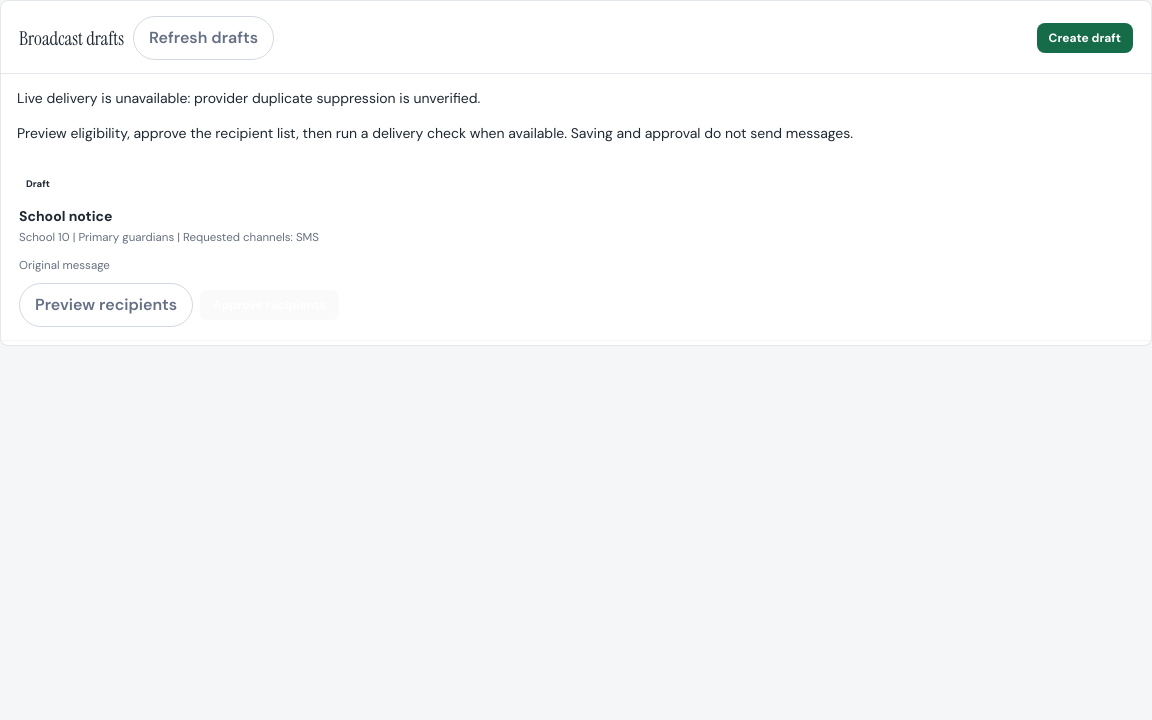
Policy-backed broadcast review and dry run › does not approve zero eligible recipients
This screenshot has width=1152, height=720.
What coordinates should you click on to do the following:
click the button "Preview recipients"
I would click on:
 (106, 305)
Its box is [19,283,193,327].
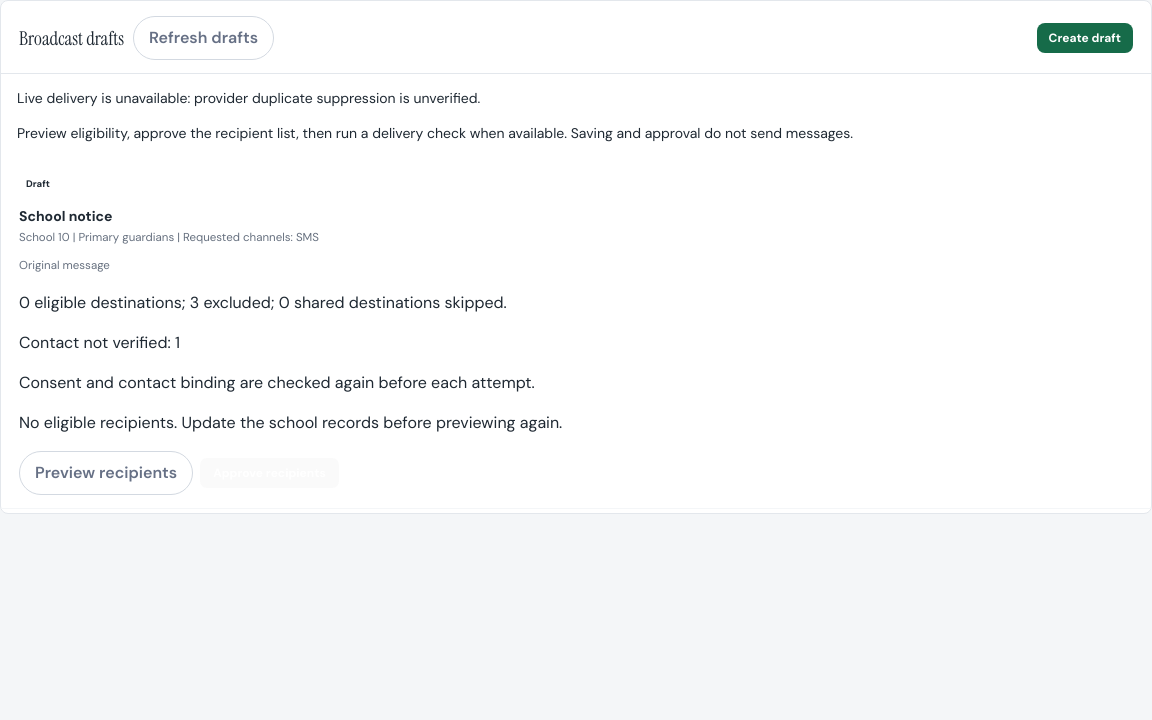
Now the text "No eligible recipients" is shown, box [19,412,562,433]
